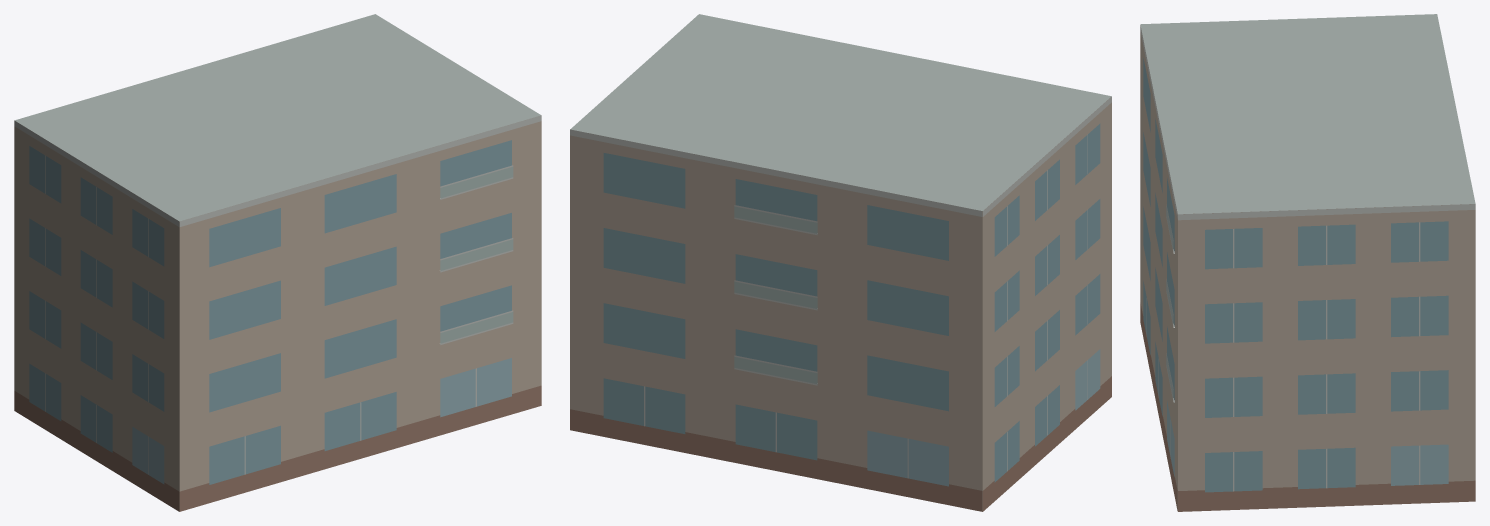
File: survey-upis-32631493.glb
3 views of the same model, side by side, from view 1: azimuth 30°, elevation 25°; view 2: azimuth 150°, elevation 25°; view 3: azimuth 270°, elevation 25° (orthographic). The views are drawn at different scales.
Parts seen in each view (by area): view 1: survey-upis-32631493.tmp; view 2: survey-upis-32631493.tmp; view 3: survey-upis-32631493.tmp.
Part boxes in pixels (left/top/right/bottom): survey-upis-32631493.tmp: left=14, top=14, right=541, bottom=511; survey-upis-32631493.tmp: left=570, top=14, right=1111, bottom=511; survey-upis-32631493.tmp: left=1140, top=14, right=1475, bottom=511.
Bounding box in the file's own units: 17.62 × 12.2 × 12.47.
